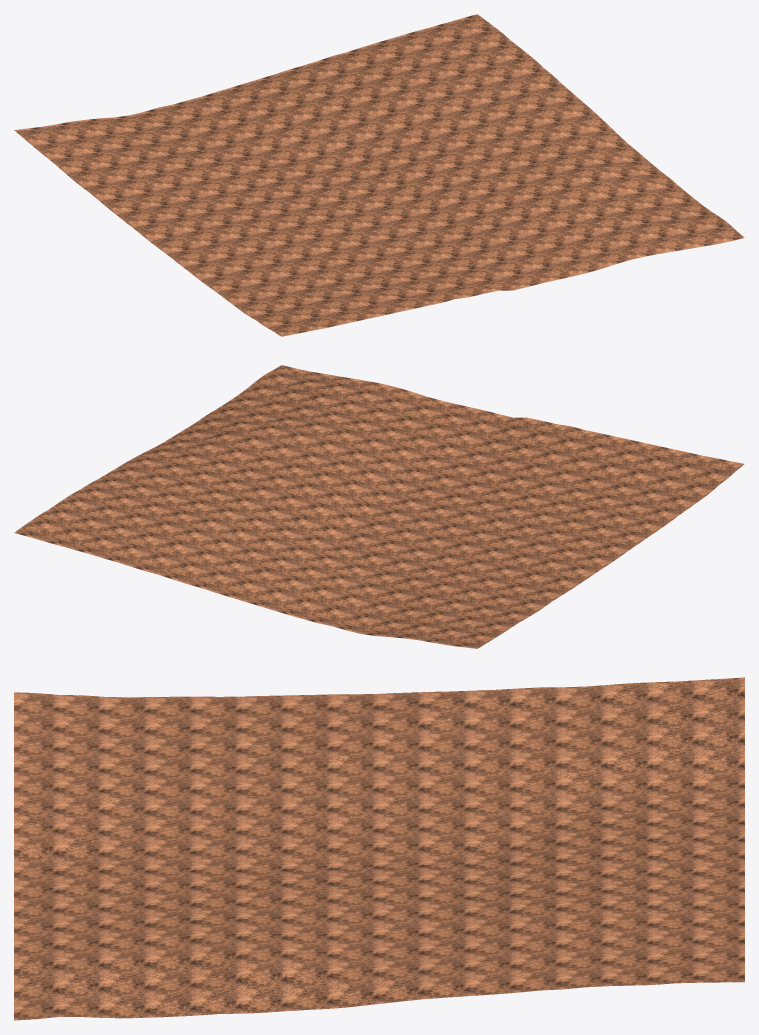
File: terrain_10_15.dae
3 views of the same model, one above another, from view 1: azimuth 30°, elevation 25°; view 2: azimuth 150°, elevation 25°; view 3: azimuth 270°, elevation 25° (orthographic). The views are drawn at different scales.
Visible parts, largest first — view 1: terrain_10_15-node; view 2: terrain_10_15-node; view 3: terrain_10_15-node.
Boxes of the visible parts, left/top/right/bottom form: terrain_10_15-node: left=14, top=14, right=744, bottom=336; terrain_10_15-node: left=14, top=365, right=744, bottom=648; terrain_10_15-node: left=14, top=677, right=744, bottom=1020.
Bounding box in the file's own units: 128 × 128 × 7.37.
1 material, 1 textured.
